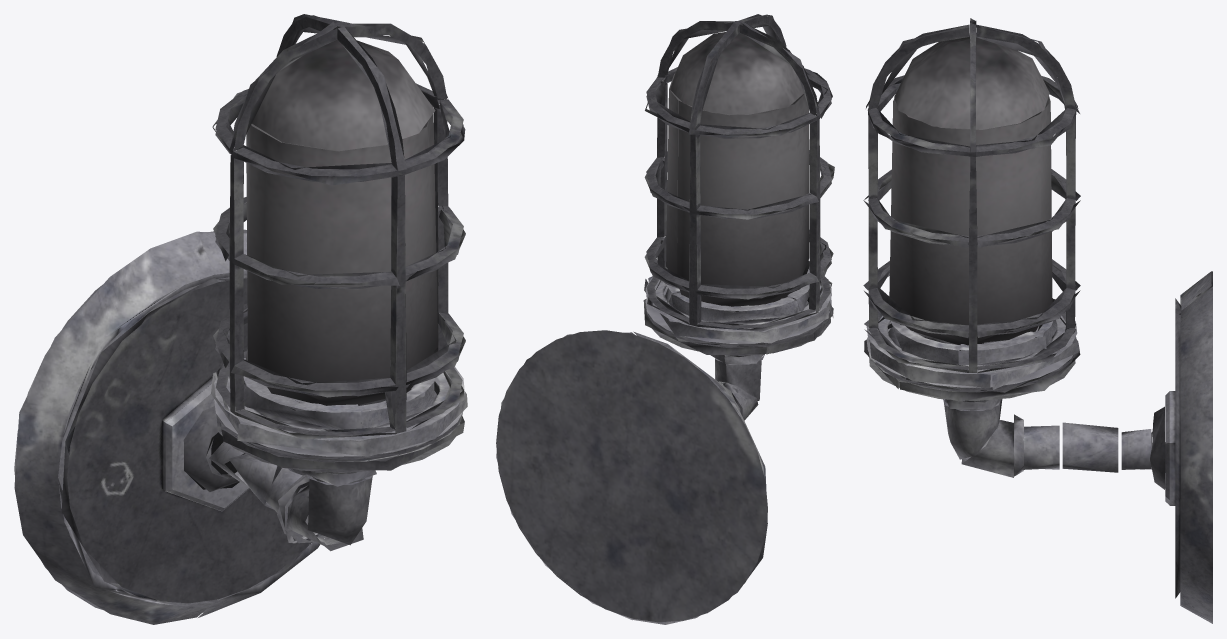
Rendered from hall_wall_lamp.glb.
The picture shows the model from 3 angles, left to right: view 1: azimuth 30°, elevation 25°; view 2: azimuth 150°, elevation 25°; view 3: azimuth 270°, elevation 25°; orthographic projection. The views are drawn at different scales.
Visible parts, largest first — view 1: hall_wall_lamp; view 2: hall_wall_lamp; view 3: hall_wall_lamp.
Boxes of the visible parts, box(x1,y1,x2,y2) form: hall_wall_lamp: box(14, 14, 467, 624); hall_wall_lamp: box(496, 14, 834, 624); hall_wall_lamp: box(863, 18, 1212, 623).
Size of the model in its own units: 0.2102 by 0.3861 by 0.2081.
Materials: 1 (1 with a texture image).
